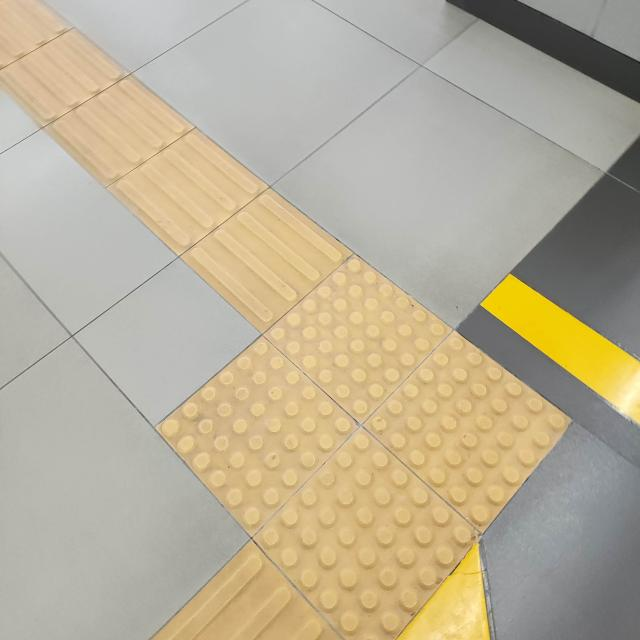kiri: (111, 98, 571, 640)
